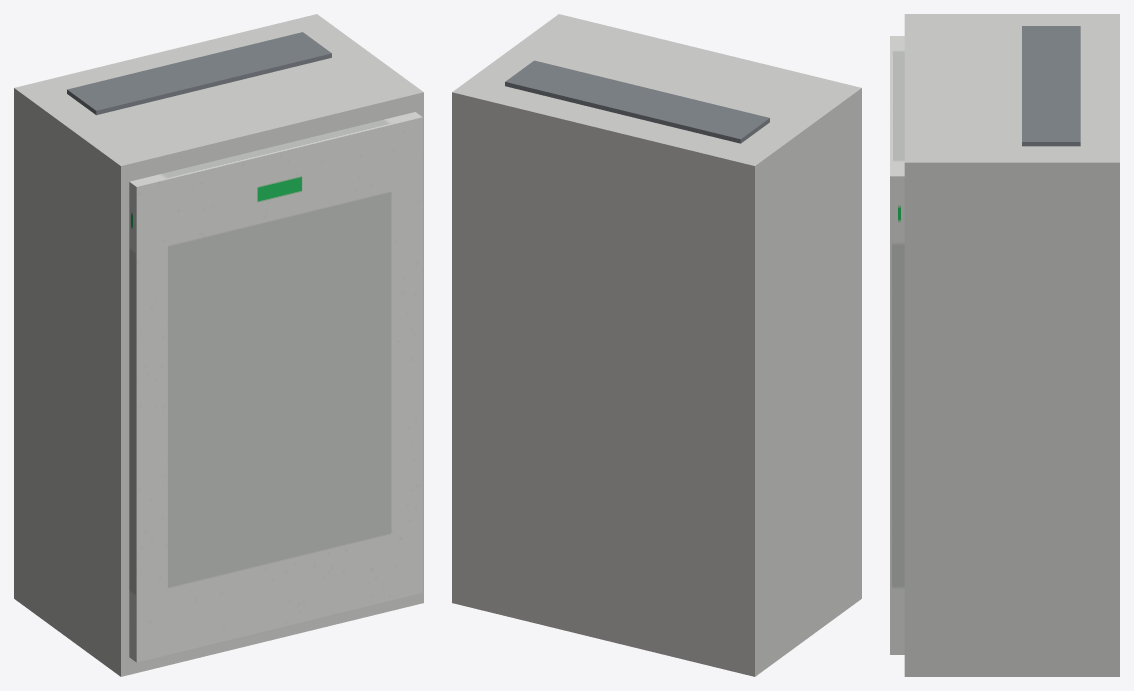
Rendered from air_purifier.glb.
3 views of the same model, side by side, from view 1: azimuth 30°, elevation 25°; view 2: azimuth 150°, elevation 25°; view 3: azimuth 270°, elevation 25° (orthographic).
Parts seen in each view (by area): view 1: air_purifier; view 2: air_purifier; view 3: air_purifier.
Boxes of the visible parts, left/top/right/bottom form: air_purifier: left=14, top=14, right=423, bottom=676; air_purifier: left=452, top=14, right=861, bottom=676; air_purifier: left=890, top=14, right=1119, bottom=676.
Size of the model in its own units: 0.36 by 0.585 by 0.235.
Materials: 3 (1 with a texture image).
